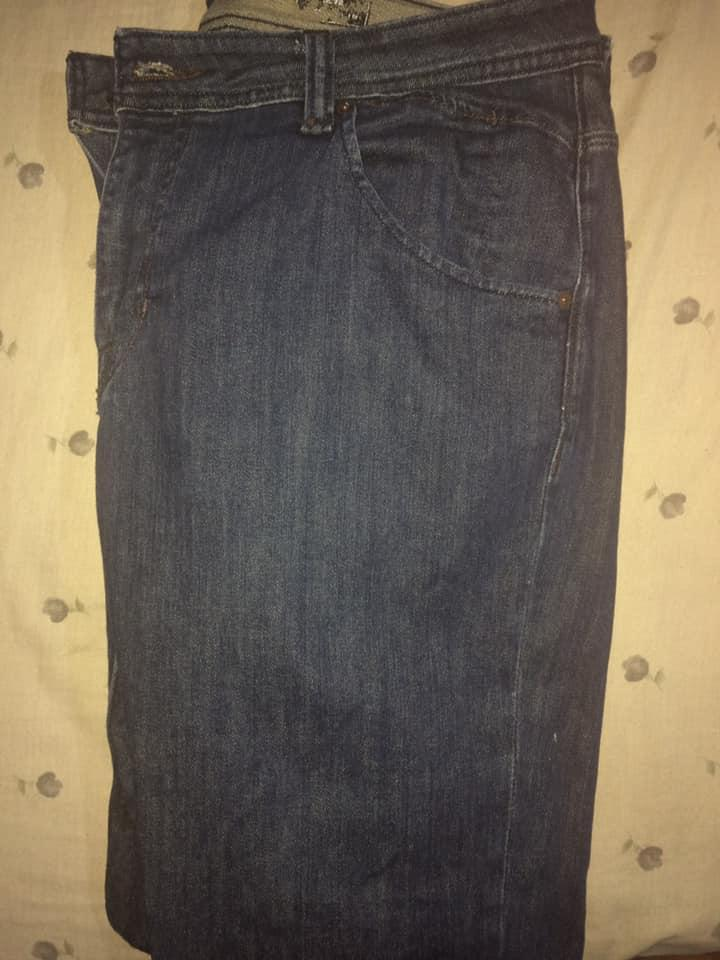jeans: (50, 0, 646, 960)
